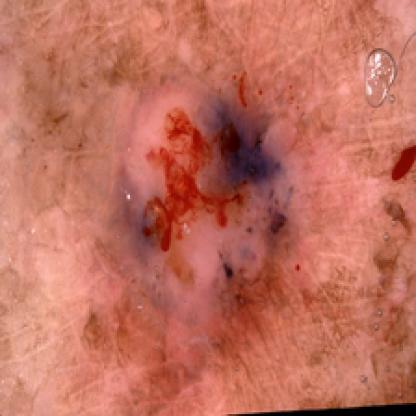malignant: (110, 78, 308, 331)
